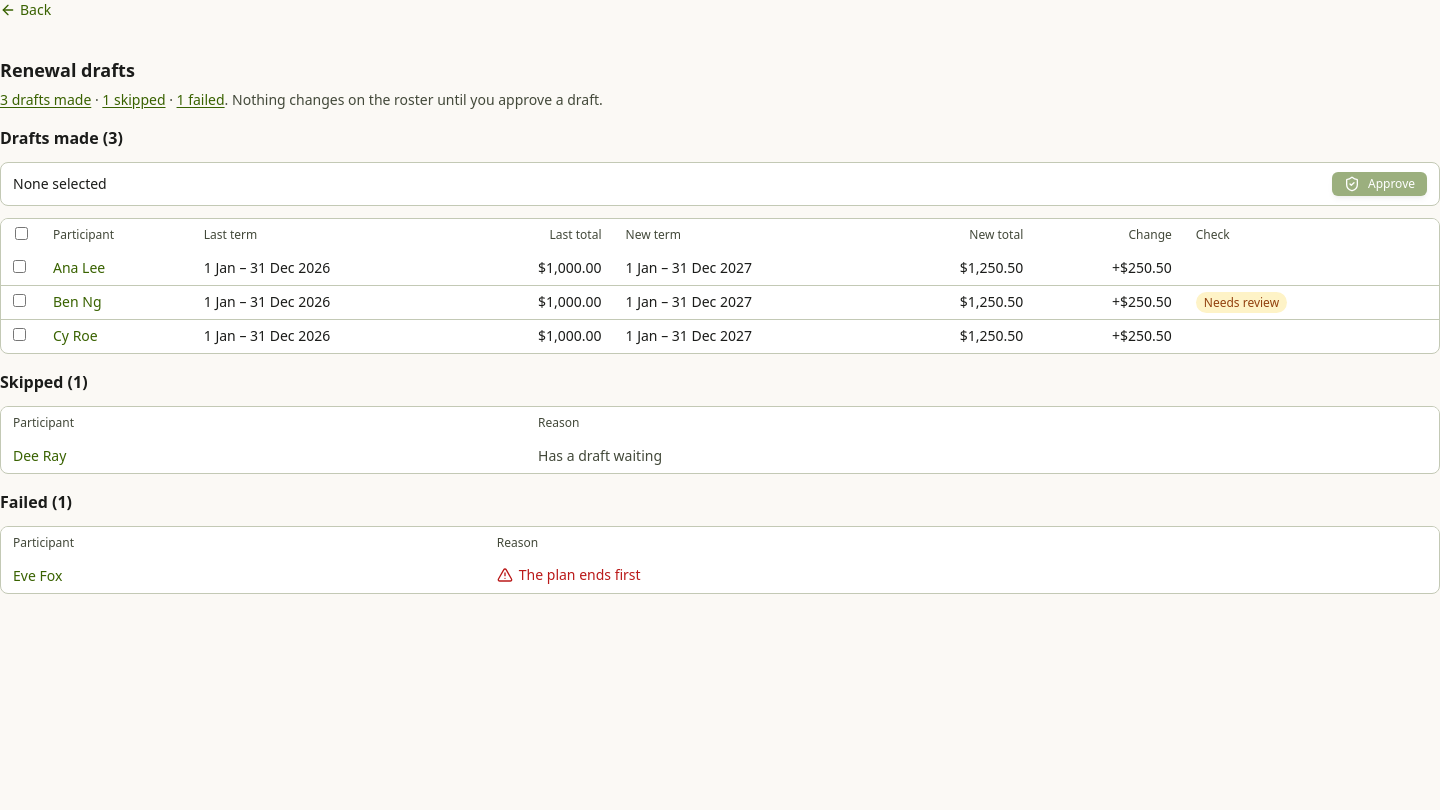
AgreementsReview › flags a draft with findings and leaves it out of Approve
expect the text "Needs review" is shown: met, box [1196, 292, 1287, 313]
Click the checkbox named "Select row a" at (20, 266), box [13, 260, 26, 273]
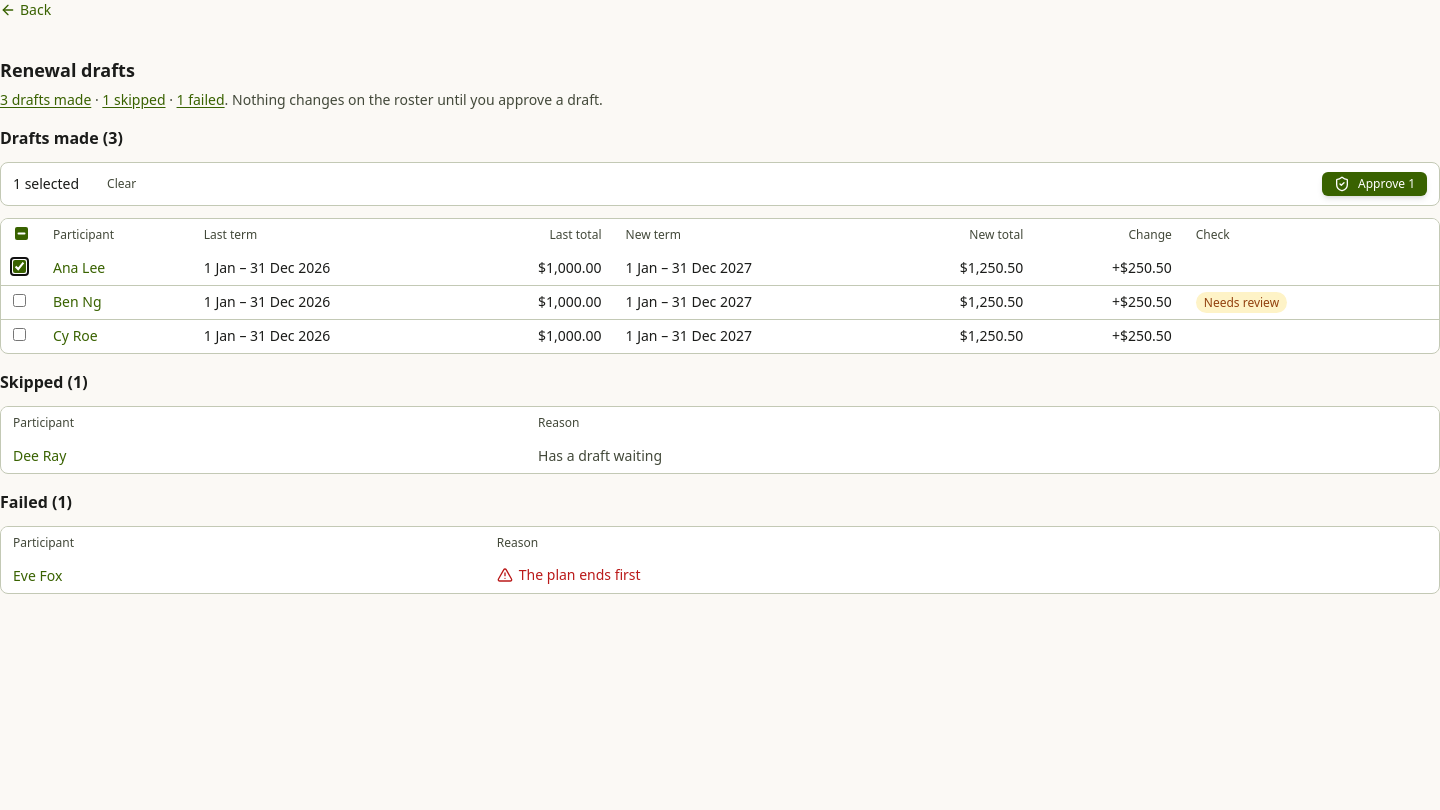
Click the checkbox named "Select row b" at (20, 300), box [13, 294, 26, 307]
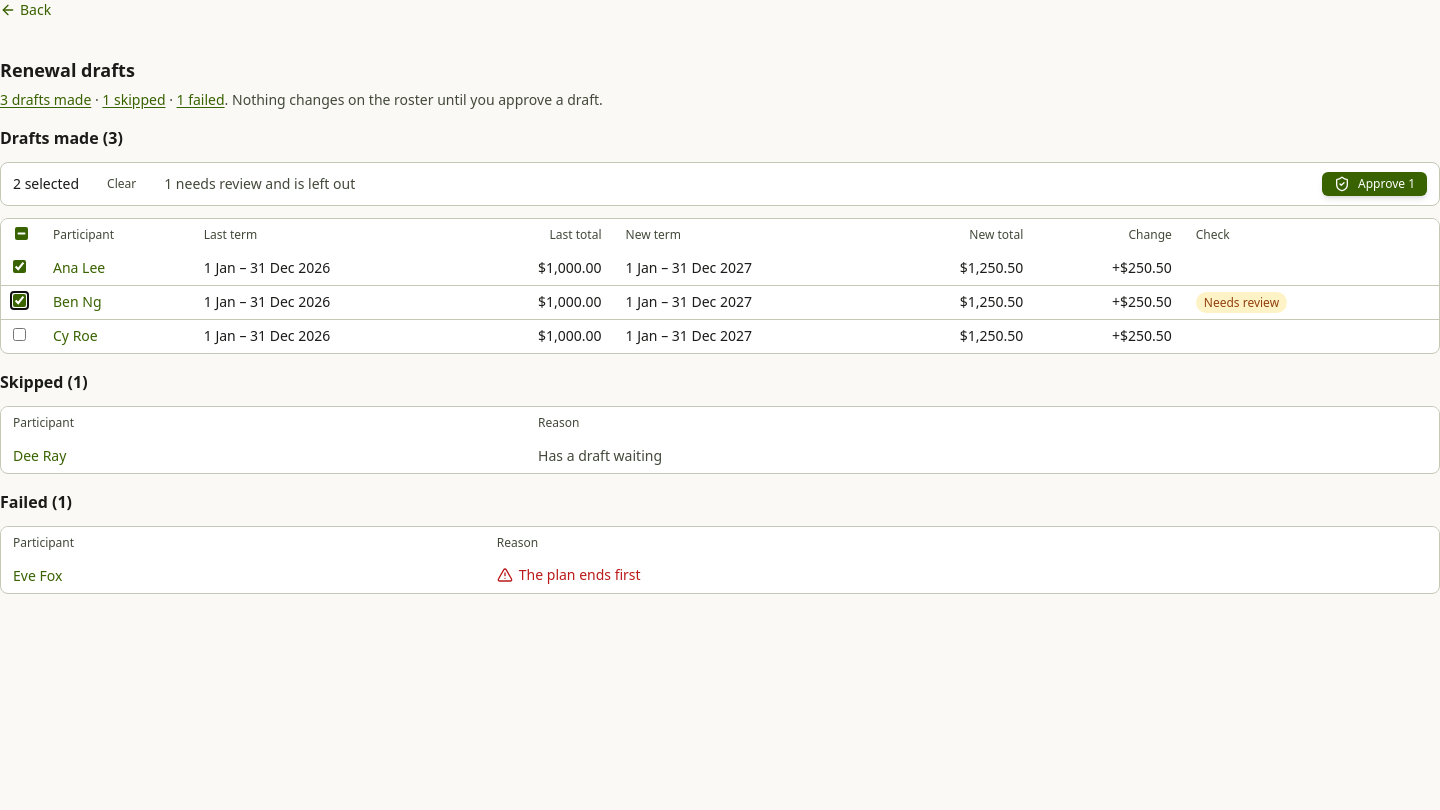
expect the button "Approve 1" is enabled: met
Click the button "Approve 1" at (1374, 184), box [1322, 172, 1427, 196]
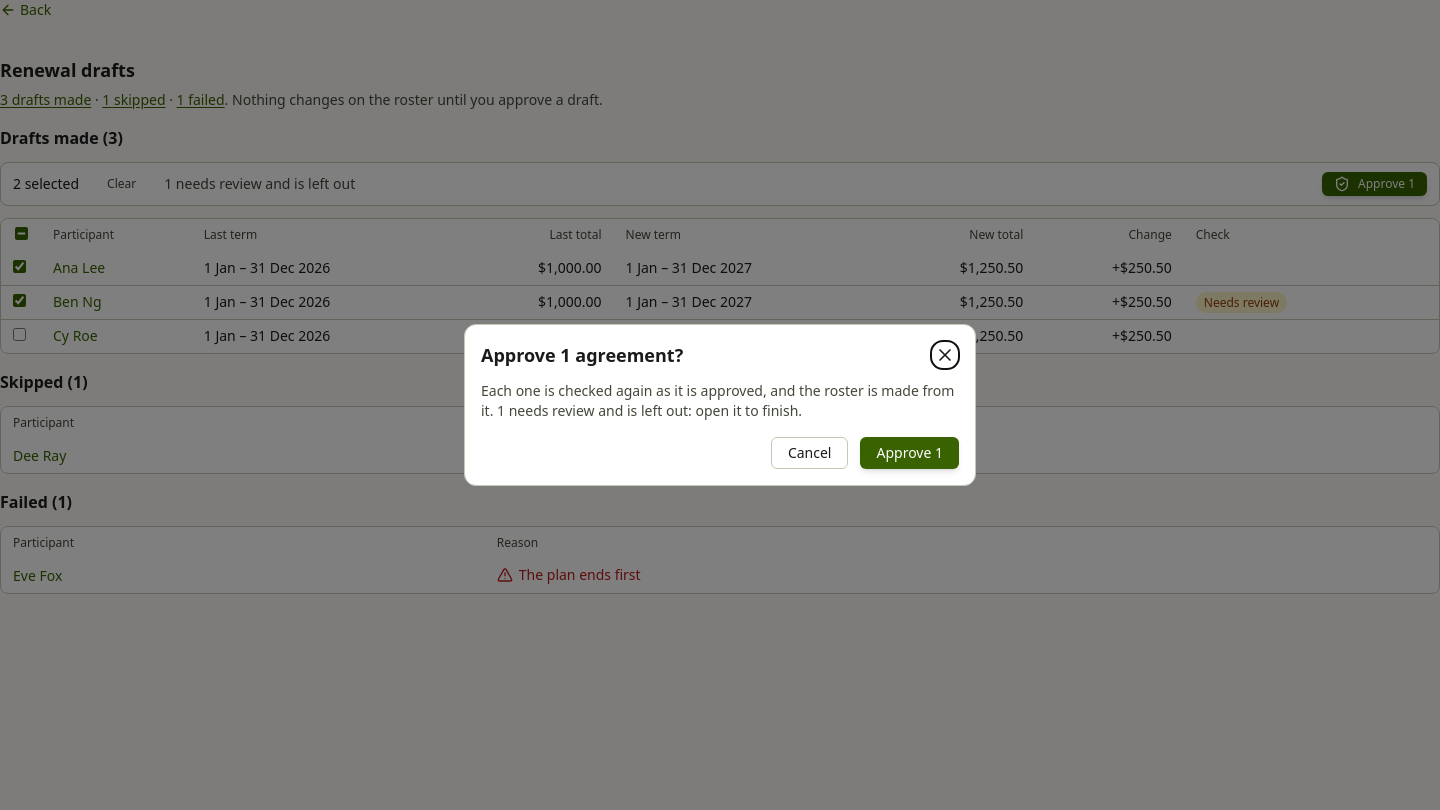
expect the text "1 needs review and is left out" is shown: met, box [493, 401, 802, 420]
